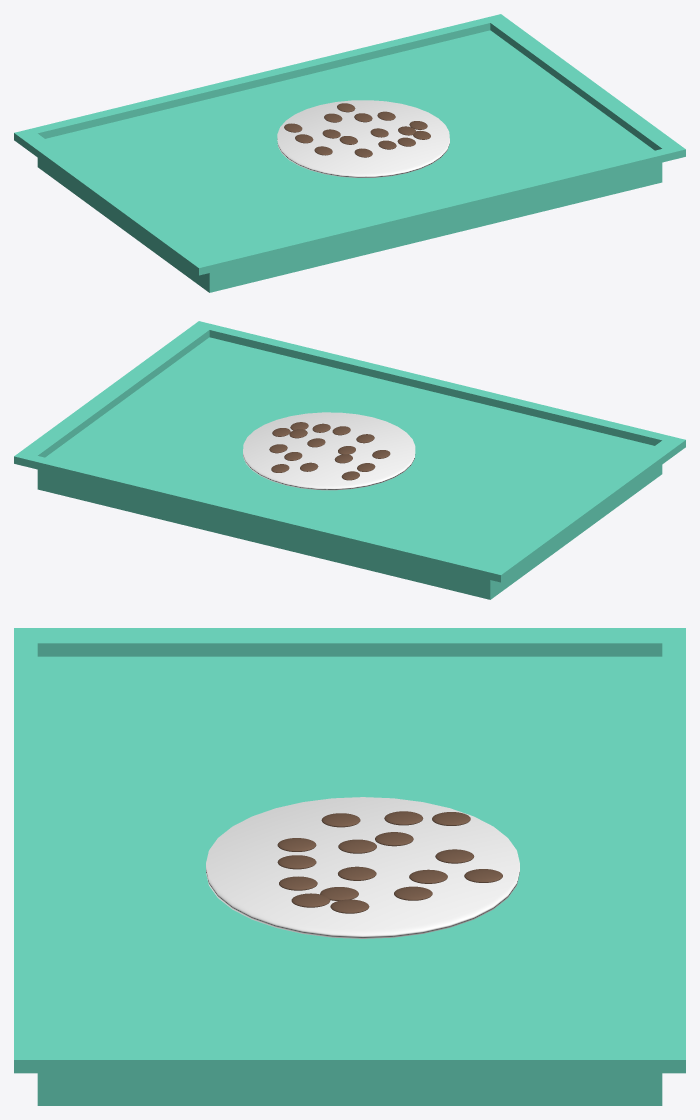
The model's file is cookie.glb.
The picture shows the model from 3 angles, top to bottom: view 1: azimuth 30°, elevation 25°; view 2: azimuth 150°, elevation 25°; view 3: azimuth 270°, elevation 25°; orthographic projection. The views are drawn at different scales.
Visible parts, largest first — view 1: Cube, cookie; view 2: Cube, cookie; view 3: Cube, cookie.
Boxes of the visible parts, <box> form: Cube: <box>14,14,685,292</box>; cookie: <box>277,100,449,177</box>; Cube: <box>14,321,685,599</box>; cookie: <box>243,412,415,490</box>; Cube: <box>14,628,685,1105</box>; cookie: <box>206,797,519,938</box>.
Size of the model in its own units: 12.14 by 0.8622 by 7.98.
